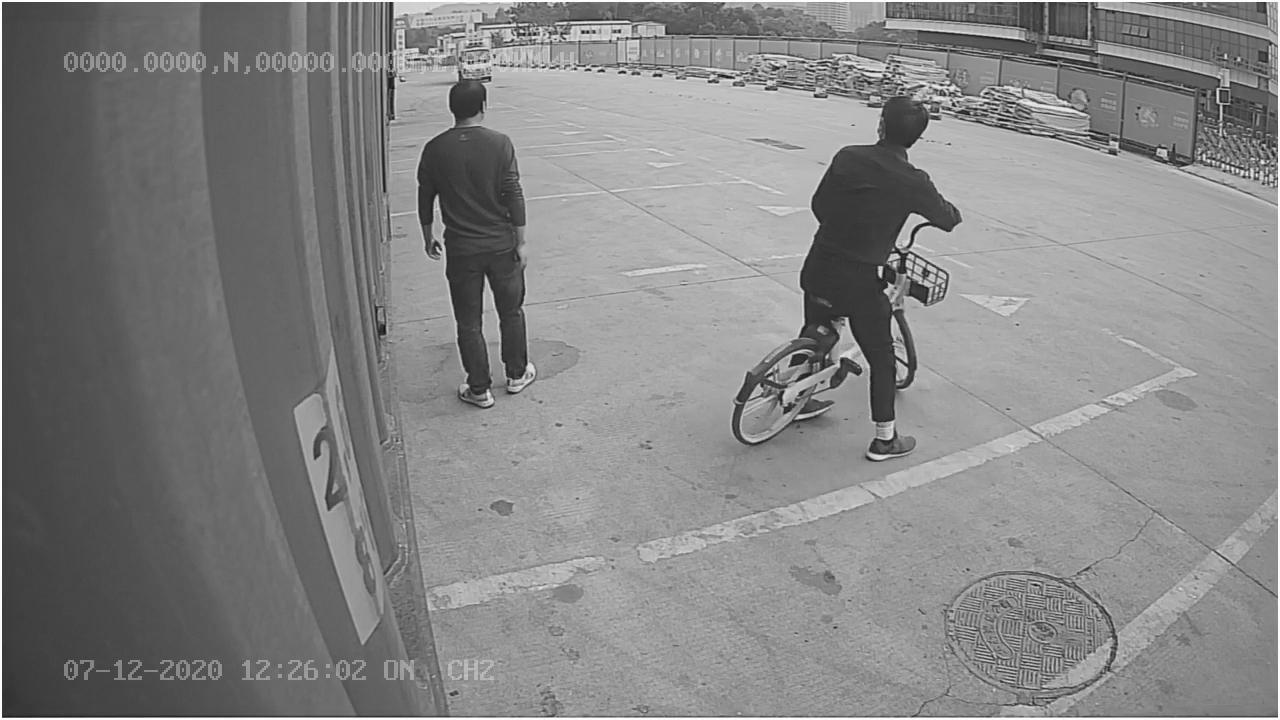person: (414, 76, 542, 415)
